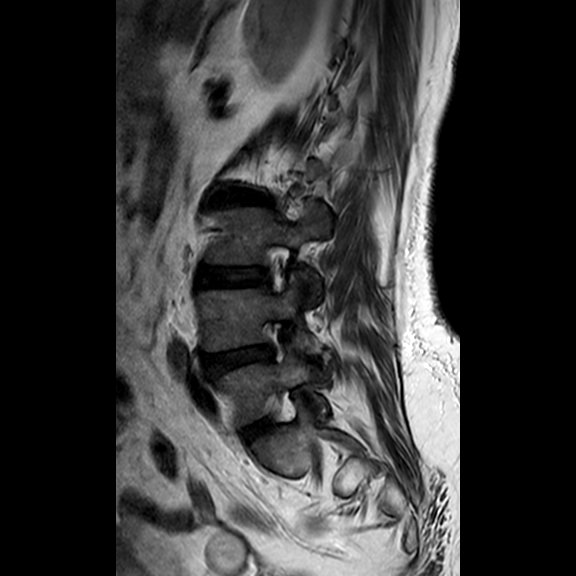LFS0: (251, 236, 301, 303)
LFS1: (248, 310, 301, 372)
